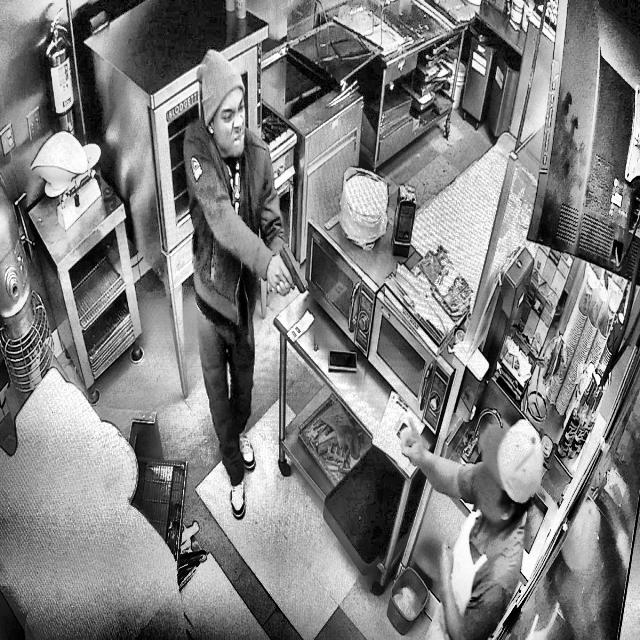pistol: (276, 232, 321, 316)
robbery: (174, 43, 572, 639)
